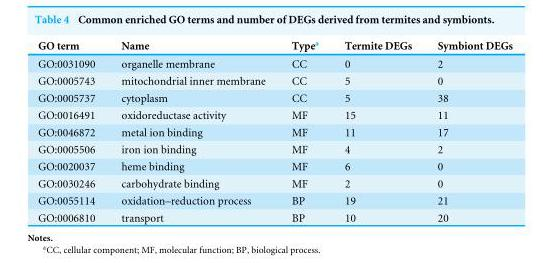table: (37, 37, 512, 223)
table column: (107, 37, 277, 223), (330, 37, 423, 223), (423, 37, 512, 223), (37, 37, 107, 223), (277, 37, 330, 223)
table column header: (37, 37, 512, 53)
table row: (37, 53, 512, 71), (37, 156, 512, 174), (37, 71, 512, 88), (37, 88, 512, 105), (37, 105, 512, 122), (37, 122, 512, 139), (37, 139, 512, 156), (37, 174, 512, 191), (37, 191, 512, 208), (37, 37, 512, 53), (37, 208, 512, 223)
